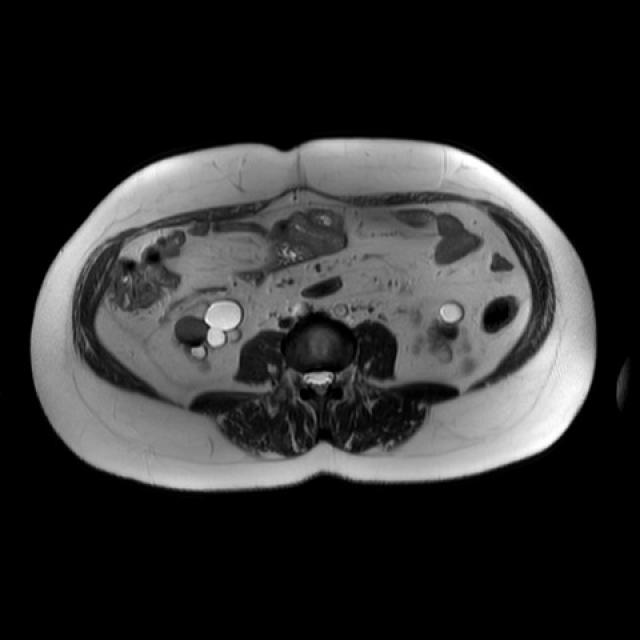sag: (176, 298, 242, 363)
sol: (409, 302, 466, 366)
